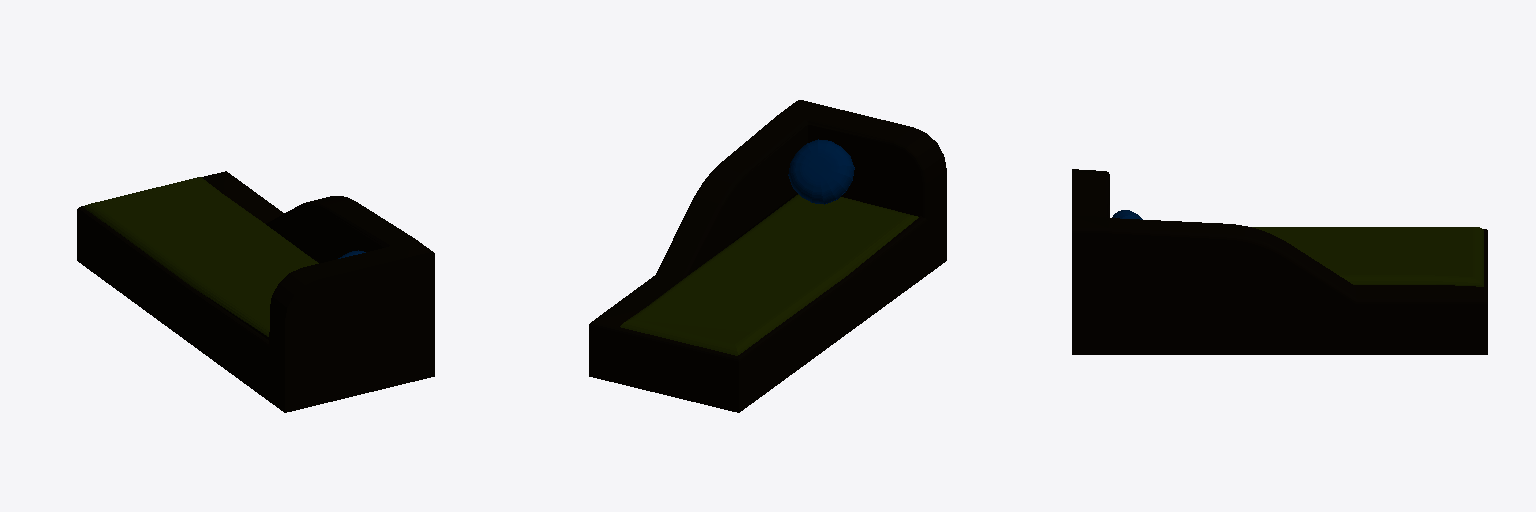
Rendered from devine.obj.
The picture shows the model from 3 angles: view 1: azimuth 30°, elevation 25°; view 2: azimuth 150°, elevation 25°; view 3: azimuth 270°, elevation 25°; orthographic projection.
Visible parts, largest first — view 1: polySurface516, polySurface518; view 2: polySurface516, polySurface518, pCube12; view 3: polySurface516, polySurface518.
Part boxes in pixels (x1,y1,x2,y2): polySurface516: (77, 171, 434, 412); polySurface518: (83, 177, 318, 336); polySurface516: (589, 100, 946, 412); polySurface518: (620, 194, 918, 355); pCube12: (788, 139, 854, 204); polySurface516: (1072, 169, 1487, 354); polySurface518: (1252, 227, 1483, 286).
Size of the model in its own units: 50 by 40 by 120.